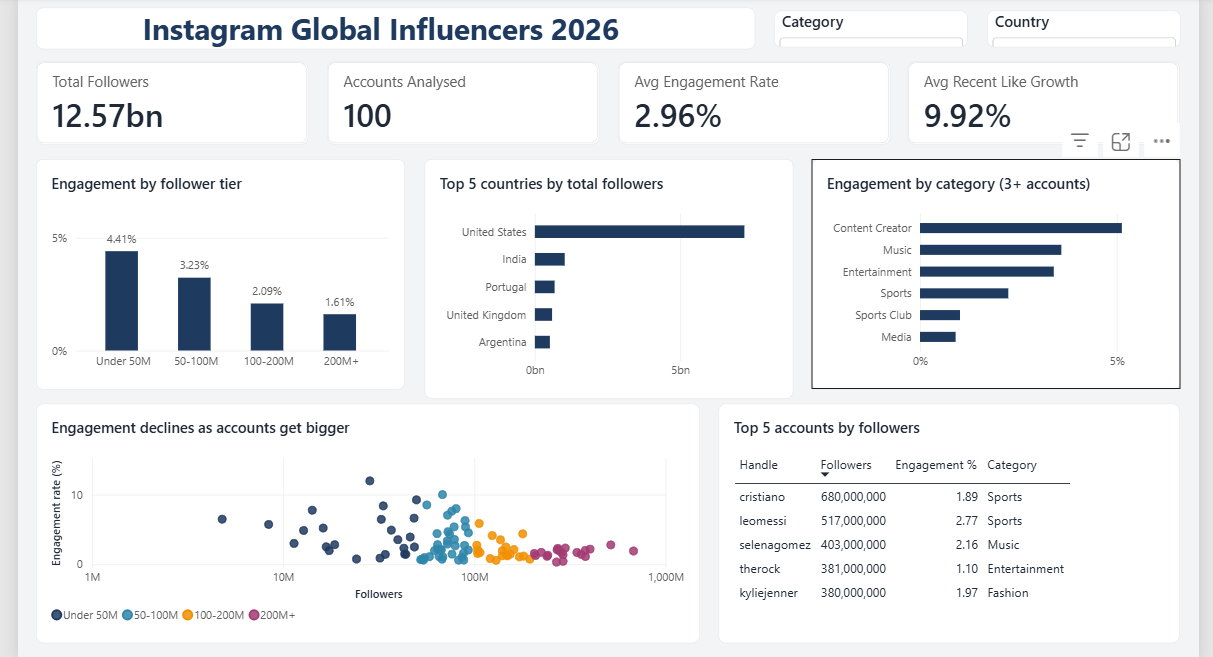

This screenshot's page, from the dashboard's own definition file:
{"tool":"powerbi","page":{"name":"Page 1","canvas":[1280,720],"ordinal":0},"visuals":[{"type":"cardVisual","fields":{"Data":["ig_clean.Total Followers"]},"box":[20,70,295,90],"z":2},{"type":"cardVisual","fields":{"Data":["ig_clean.Avg Engagement %"]},"box":[650,70,295,90],"z":3},{"type":"cardVisual","fields":{"Data":["ig_clean.Total Accounts"]},"box":[335,70,295,90],"z":4},{"type":"cardVisual","fields":{"Data":["ig_clean.Avg Recent Like Change %"]},"box":[965,70,295,90],"z":5},{"type":"clusteredBarChart","title":"Top 5 countries by total followers","fields":{"Category":["ig_clean.primary_country"],"Y":["ig_clean.Total Followers"]},"box":[440,175,400,260],"z":6},{"type":"clusteredColumnChart","title":"Engagement by follower tier","fields":{"Category":["ig_clean.Follower Tier"],"Y":["ig_clean.Avg Engagement %"]},"box":[20,175,400,250],"z":7},{"type":"clusteredBarChart","title":"Engagement by category (3+ accounts)","fields":{"Category":["ig_clean.main_category"],"Y":["ig_clean.Avg Engagement %"]},"box":[860,175,400,250],"z":8},{"type":"tableEx","title":"Top 5 accounts by followers","fields":{"Values":["ig_clean.handle","Sum(ig_clean.followers)","Sum(ig_clean.eng_rate_60d)","ig_clean.main_category"]},"box":[760,440,500,260],"z":10},{"type":"slicer","fields":{"Values":["ig_clean.main_category"]},"box":[820,14,210,40],"z":11},{"type":"slicer","fields":{"Values":["ig_clean.primary_country"]},"box":[1050,14,210,40],"z":12},{"type":"scatterChart","title":"Engagement declines as accounts get bigger","fields":{"Category":["ig_clean.handle"],"Series":["ig_clean.Follower Tier"],"X":["Avg(ig_clean.followers)"],"Y":["Avg(ig_clean.eng_rate_60d)"]},"box":[20,440,720,260],"z":13},{"type":"textbox","box":[20,12,780,45],"z":14}]}

Visuals, with their boxes on the page's 1280x720 design canvas (x1, y1, x2, y2). These are canvas units, not pixel positions in the 1213x657 screenshot, which may show the page scaled, cropped or inside an application window:
cardVisual - ig_clean.Total Followers: detection(20, 70, 315, 160)
cardVisual - ig_clean.Avg Engagement %: detection(650, 70, 945, 160)
cardVisual - ig_clean.Total Accounts: detection(335, 70, 630, 160)
cardVisual - ig_clean.Avg Recent Like Change %: detection(965, 70, 1260, 160)
"Top 5 countries by total followers" clusteredBarChart: detection(440, 175, 840, 435)
"Engagement by follower tier" clusteredColumnChart: detection(20, 175, 420, 425)
"Engagement by category (3+ accounts)" clusteredBarChart: detection(860, 175, 1260, 425)
"Top 5 accounts by followers" tableEx: detection(760, 440, 1260, 700)
slicer - ig_clean.main_category: detection(820, 14, 1030, 54)
slicer - ig_clean.primary_country: detection(1050, 14, 1260, 54)
"Engagement declines as accounts get bigger" scatterChart: detection(20, 440, 740, 700)
textbox: detection(20, 12, 800, 57)
